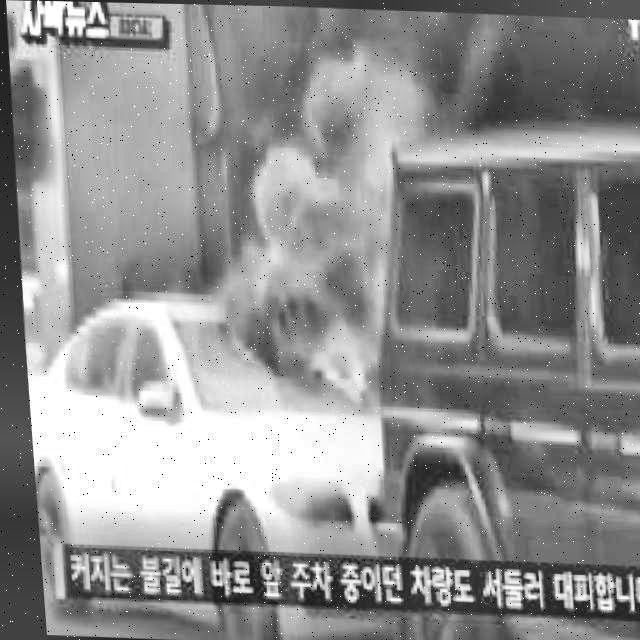Fire: (240, 56, 442, 394)
